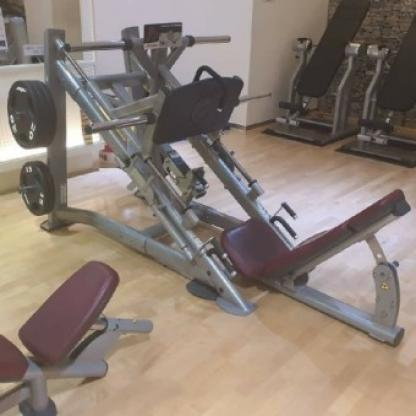leg press: (2, 16, 416, 352)
